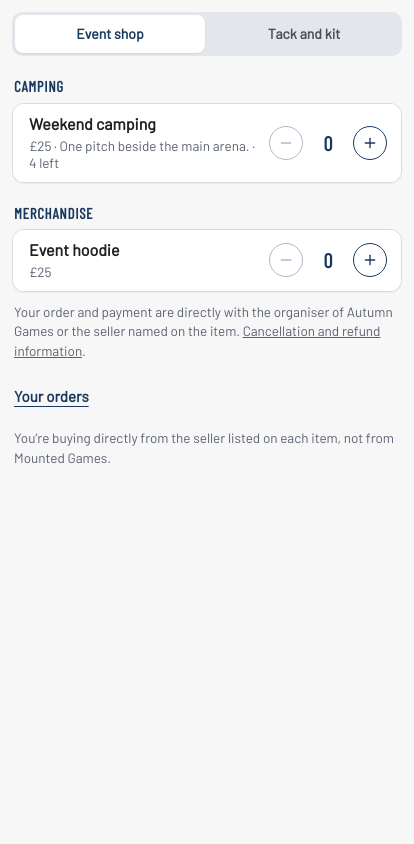
Test: EventShopPage › groups products by category and uses the server-confirmed total at checkout
expect the navigation bar named "Shop switcher" is shown: met, box [12,12,402,56]
expect the text "£25 · One pitch beside the main arena. · 4 left" is shown: met, box [29,136,257,172]
Click the button named "Add one Weekend camping" at x=370, y=142, box [353,126,387,160]
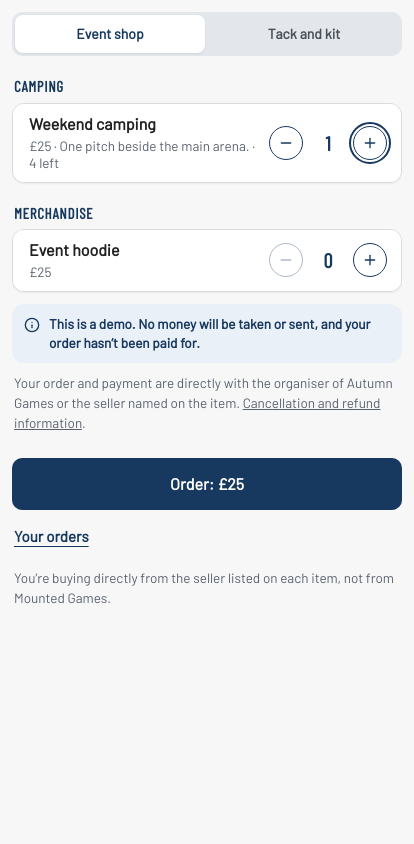
Click the button "Order: £25" at x=207, y=484, box [12,458,402,510]
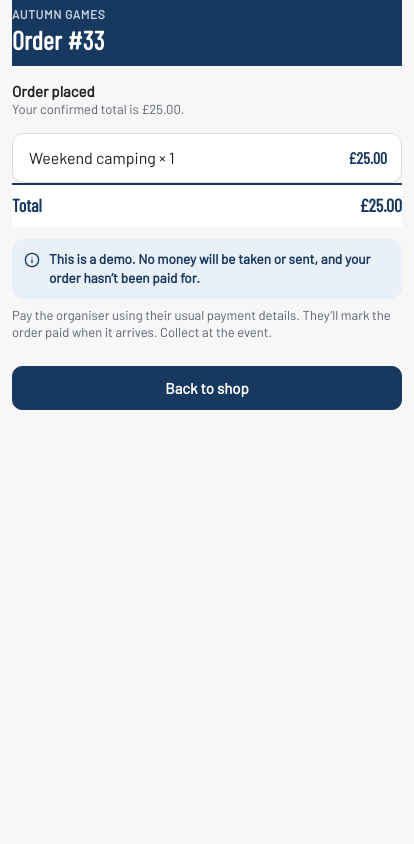
expect the heading "Order #33" is shown: met, box [12,24,105,55]
expect the text "£25.00" in the row of "Weekend camping × 1" is shown: met, box [348,148,387,167]
expect the text "Pay the organiser using their usual payment details" is shown: met, box [12,307,391,340]
